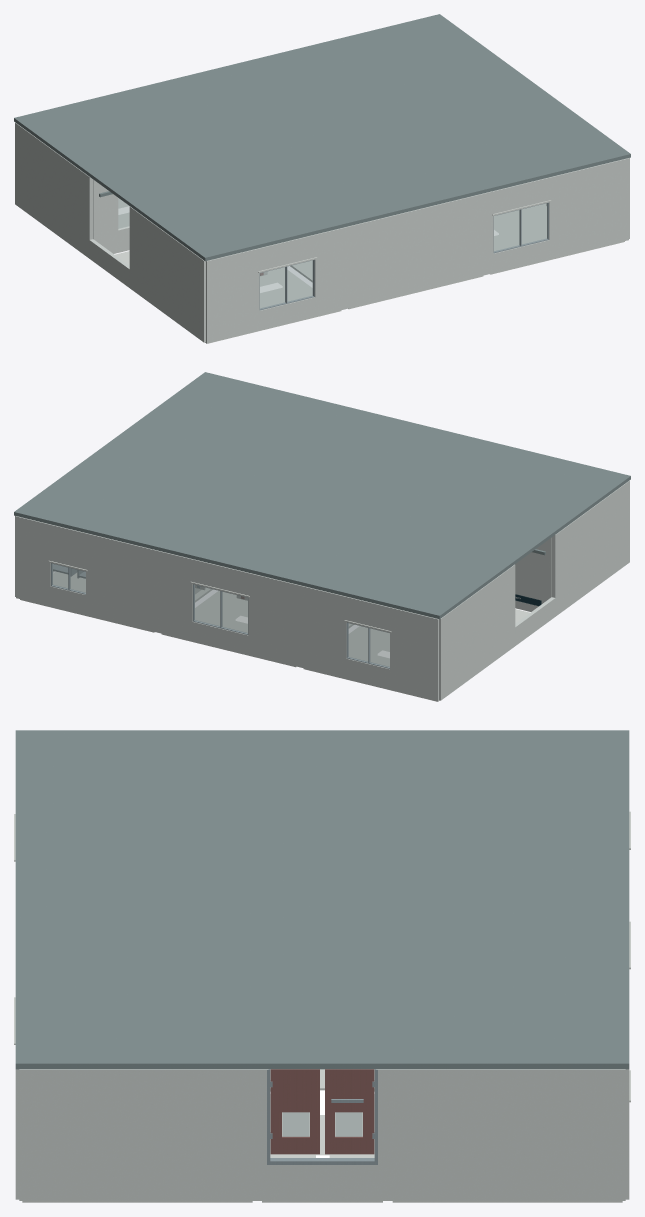
The model's file is PROJECT_Z_Small_Hospital_Wing.glb.
3 views of the same model, one above another, from view 1: azimuth 30°, elevation 25°; view 2: azimuth 150°, elevation 25°; view 3: azimuth 270°, elevation 25° (orthographic). The views are drawn at different scales.
Visible parts, largest first — view 1: FLOOR_ReinforcedStructuralSlab_18x14, EXT_North_Outer__Segment_03, EXT_North_Outer__Segment_06, EXT_West_ConnectorSide__Segment_00, EXT_West_ConnectorSide__Segment_02, EXT_North_Outer__Segment_00, CEILING_REMOVABLE_3_3, INT_SouthCorridor_Front__Segment_00, CEILING_REMOVABLE_1_3, EXT_North_Outer__Segment_01, EXT_North_Outer__Segment_04, EXT_North_Outer__Segment_05 (+7 smaller); view 2: FLOOR_ReinforcedStructuralSlab_18x14, EXT_South_Outer__Segment_06, EXT_South_Outer__Segment_03, EXT_West_ConnectorSide__Segment_02, EXT_West_ConnectorSide__Segment_00, EXT_South_Outer__Segment_00, EXT_South_Outer__Segment_09, INT_NorthCorridor_Front__Segment_00, CEILING_REMOVABLE_2_1, CEILING_REMOVABLE_1_1, EXT_South_Outer__Segment_04, EXT_South_Outer__Segment_07 (+10 smaller); view 3: FLOOR_ReinforcedStructuralSlab_18x14, EXT_East_EmergencySide__Segment_00, EXT_East_EmergencySide__Segment_02, EXT_East_EmergencySide__Segment_01, CEILING_REMOVABLE_3_2, DOOR_EmergencyExit_NorthLeaf__Leaf_Lower, DOOR_EmergencyExit_SouthLeaf__Leaf_Lower, DOOR_EmergencyExit_SouthLeaf__Leaf_Upper, DOOR_EmergencyExit_NorthLeaf__Leaf_Upper, DOORFRAME_EastEmergencyExit_HEADER, DOOR_EmergencyExit_SouthLeaf__BreakableVisionGlass, DOOR_EmergencyExit_NorthLeaf__BreakableVisionGlass (+2 smaller).
Boxes of the visible parts, box(x1,y1,x2,y2) form: FLOOR_ReinforcedStructuralSlab_18x14: box(14, 14, 630, 261); EXT_North_Outer__Segment_03: box(314, 191, 493, 316); EXT_North_Outer__Segment_06: box(549, 158, 628, 259); EXT_West_ConnectorSide__Segment_00: box(15, 122, 93, 258); EXT_West_ConnectorSide__Segment_02: box(129, 206, 205, 342); EXT_North_Outer__Segment_00: box(206, 248, 259, 342); CEILING_REMOVABLE_3_3: box(490, 203, 624, 274); INT_SouthCorridor_Front__Segment_00: box(93, 179, 118, 253); CEILING_REMOVABLE_1_3: box(205, 267, 341, 343); EXT_North_Outer__Segment_01: box(259, 234, 315, 272); EXT_North_Outer__Segment_04: box(493, 177, 549, 215); EXT_North_Outer__Segment_05: box(493, 240, 549, 272); FLOOR_ReinforcedStructuralSlab_18x14: box(14, 372, 630, 619); EXT_South_Outer__Segment_06: box(86, 533, 192, 640); EXT_South_Outer__Segment_03: box(248, 573, 346, 678); EXT_West_ConnectorSide__Segment_02: box(551, 480, 629, 616); EXT_West_ConnectorSide__Segment_00: box(439, 564, 515, 700); EXT_South_Outer__Segment_00: box(390, 607, 438, 700); EXT_South_Outer__Segment_09: box(16, 516, 50, 606); INT_NorthCorridor_Front__Segment_00: box(515, 537, 551, 611); CEILING_REMOVABLE_2_1: box(161, 591, 353, 667); CEILING_REMOVABLE_1_1: box(303, 626, 439, 701); EXT_South_Outer__Segment_04: box(192, 559, 248, 597); EXT_South_Outer__Segment_07: box(50, 524, 86, 571); FLOOR_ReinforcedStructuralSlab_18x14: box(15, 730, 629, 1069); EXT_East_EmergencySide__Segment_00: box(376, 1069, 625, 1200); EXT_East_EmergencySide__Segment_02: box(19, 1069, 268, 1200); EXT_East_EmergencySide__Segment_01: box(268, 1165, 376, 1200); CEILING_REMOVABLE_3_2: box(262, 1094, 382, 1202); DOOR_EmergencyExit_NorthLeaf__Leaf_Lower: box(270, 1069, 319, 1112); DOOR_EmergencyExit_SouthLeaf__Leaf_Lower: box(325, 1069, 374, 1112); DOOR_EmergencyExit_SouthLeaf__Leaf_Upper: box(325, 1136, 374, 1154); DOOR_EmergencyExit_NorthLeaf__Leaf_Upper: box(270, 1136, 319, 1154); DOORFRAME_EastEmergencyExit_HEADER: box(267, 1158, 375, 1164); DOOR_EmergencyExit_SouthLeaf__BreakableVisionGlass: box(335, 1112, 362, 1136); DOOR_EmergencyExit_NorthLeaf__BreakableVisionGlass: box(282, 1112, 309, 1136).
Size of the model in its own units: 18.01 by 3.58 by 14.08.
14 materials, 14 textured.
